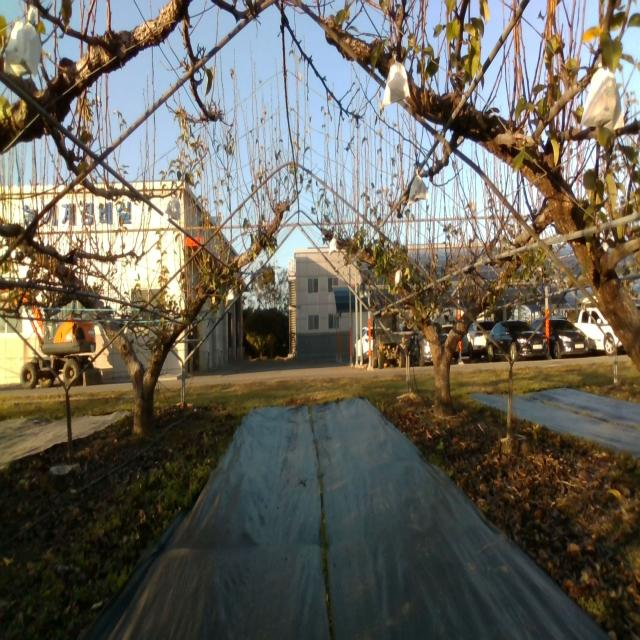pearbags: (579, 69, 625, 133), (3, 8, 43, 80), (382, 54, 411, 108), (407, 169, 429, 206), (161, 193, 181, 222), (328, 237, 340, 256)
